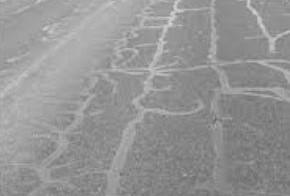crack: (17, 117, 82, 192), (46, 66, 148, 112), (102, 116, 138, 193), (239, 1, 288, 52), (212, 79, 289, 102), (211, 60, 290, 77), (111, 36, 172, 55), (205, 1, 222, 58), (152, 103, 201, 121), (124, 25, 182, 36), (152, 63, 209, 74), (138, 15, 179, 21)
